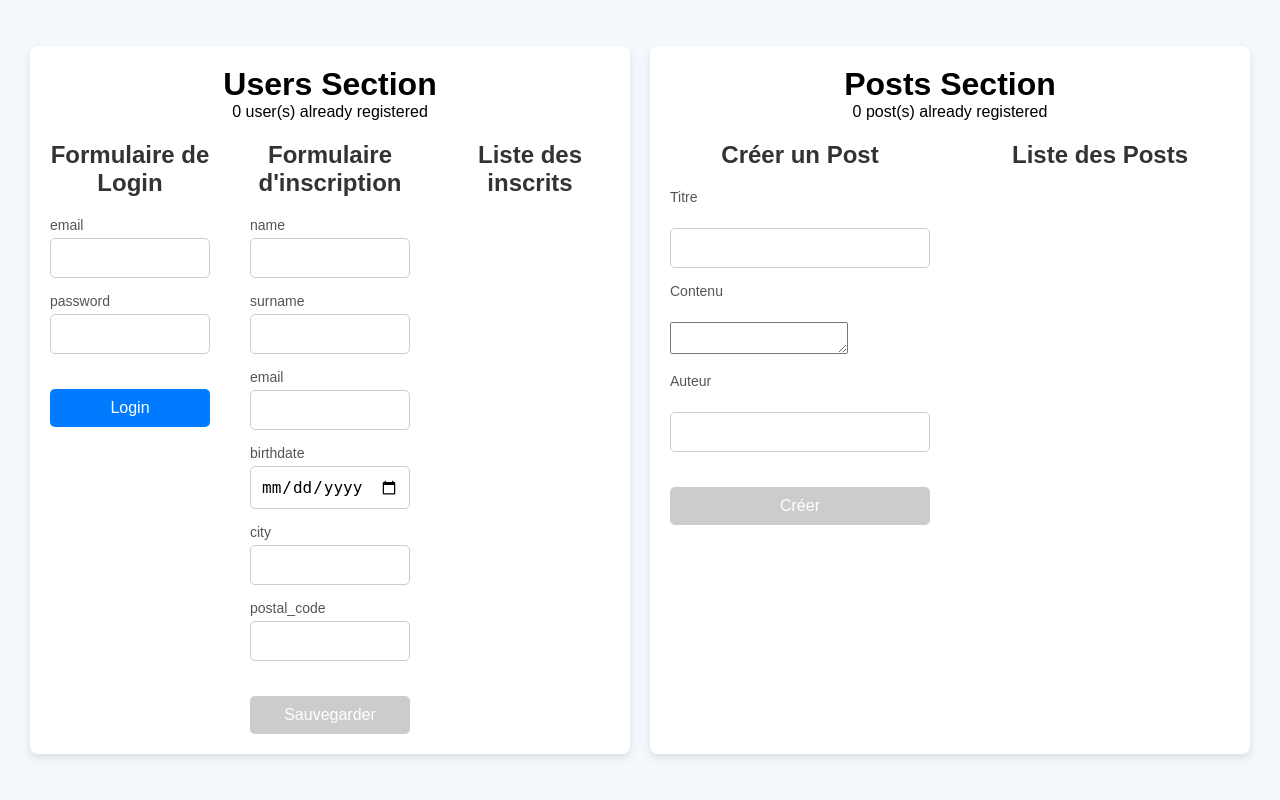
Test: Connexion administrateur › affiche un message d’erreur si les identifiants sont incorrects
In the field with id "email": (130,258) [50,238,210,278], type "lol@test.com"
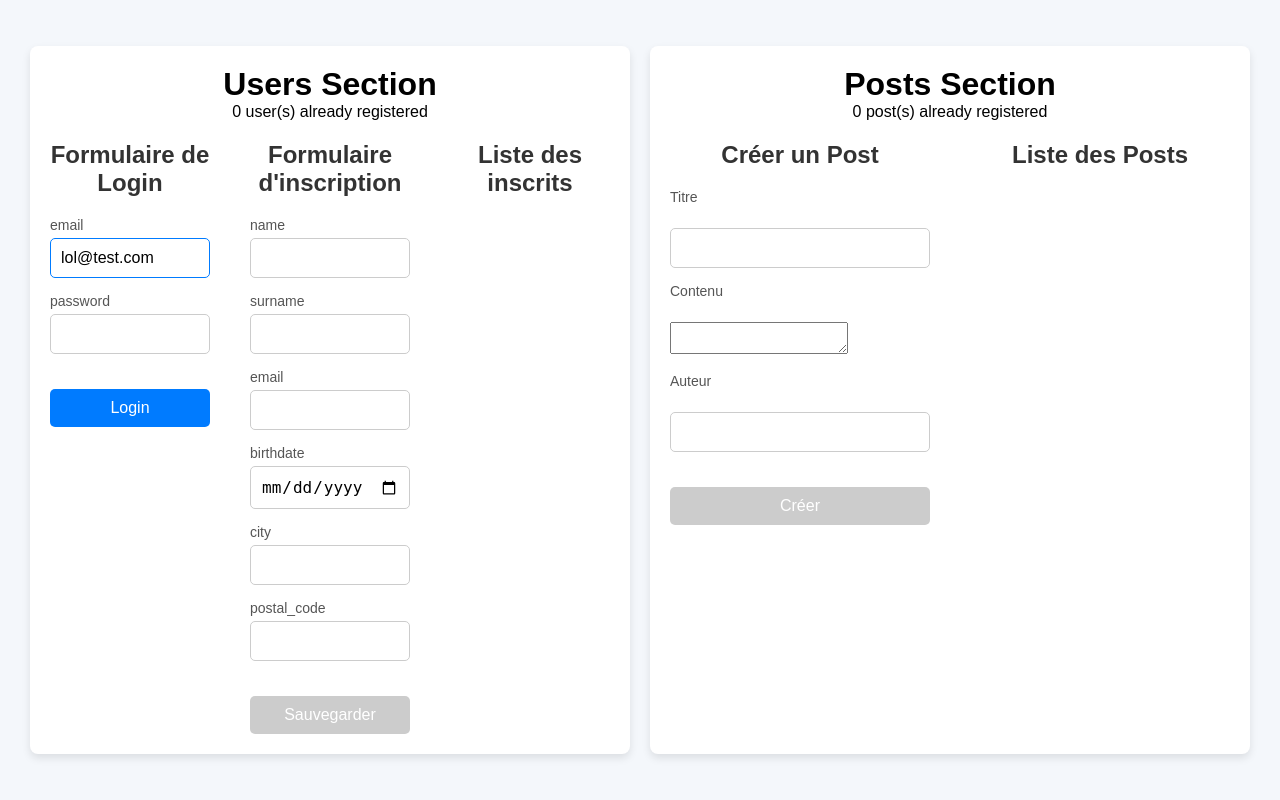
In the password field labelled "password": (130,334) [50,314,210,354], type "hahaha"
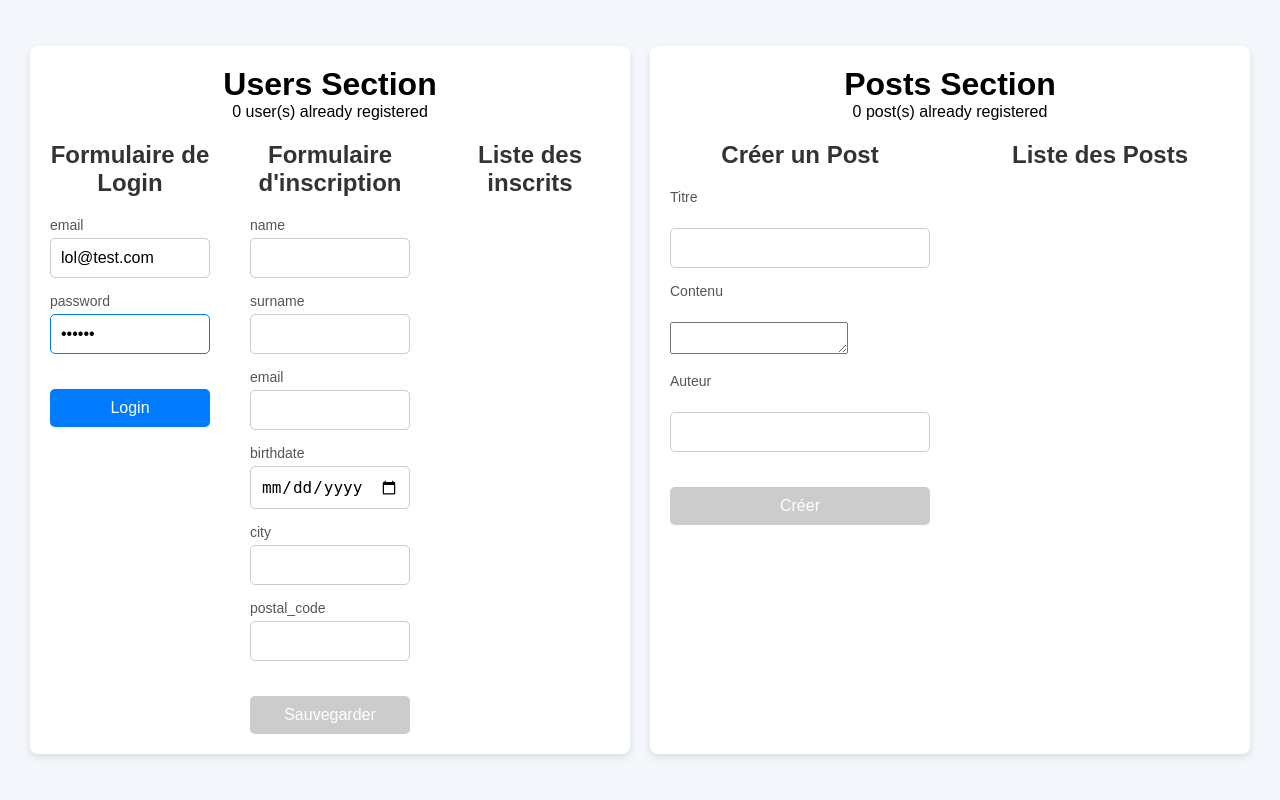
Click the button "Login": (130,408) [50,389,210,427]
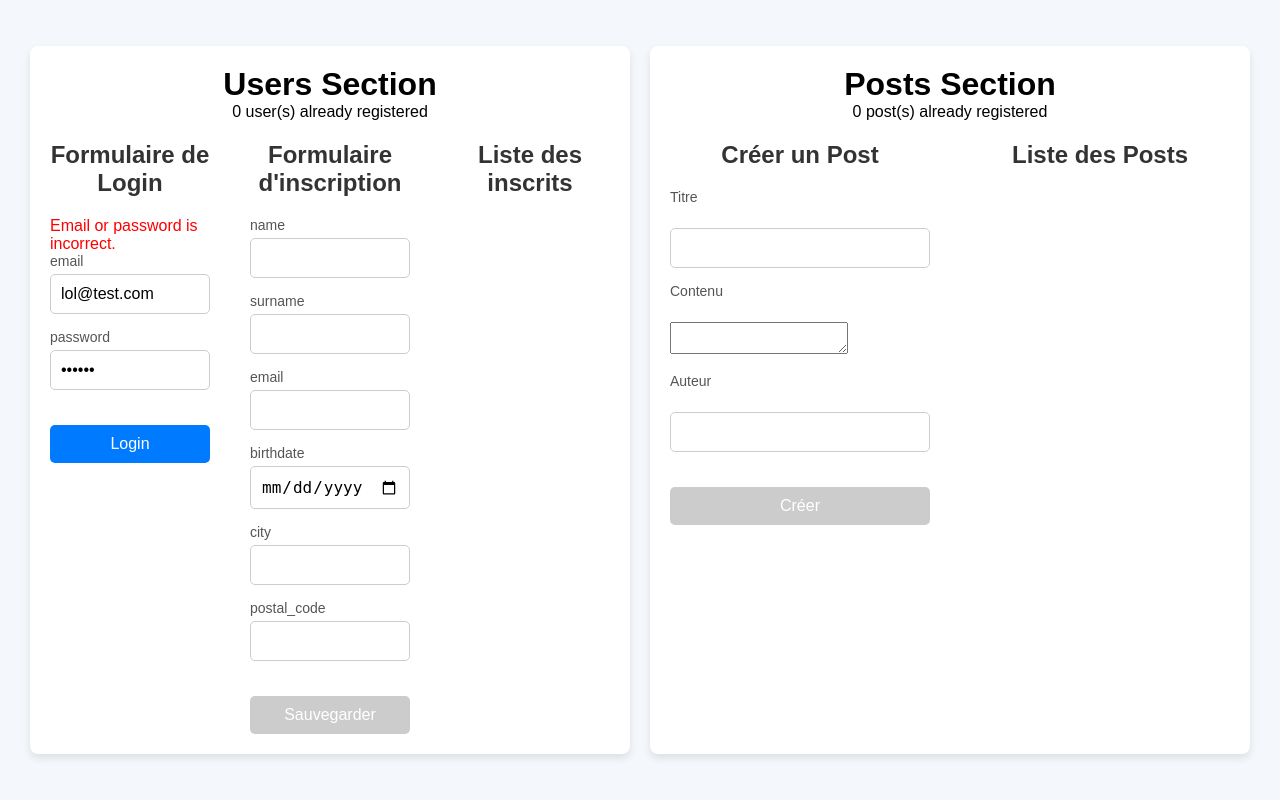
Now the text "Email or password is incorrect." is shown, box [50,217,210,253]
